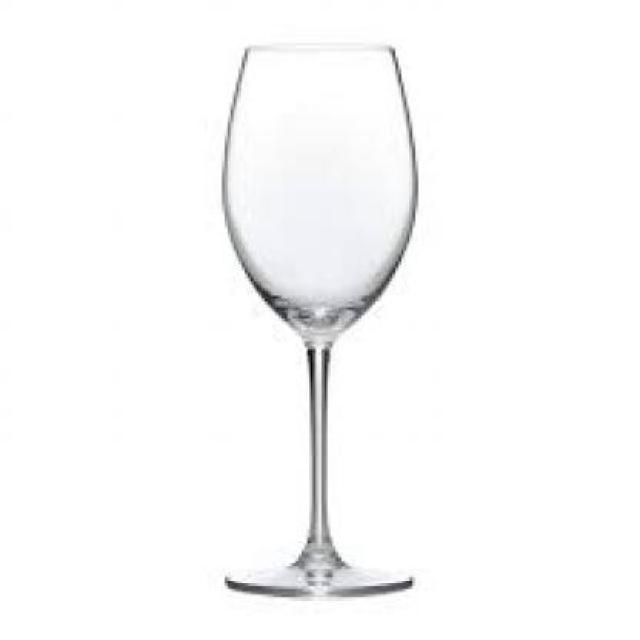kaca: (217, 43, 412, 594)
